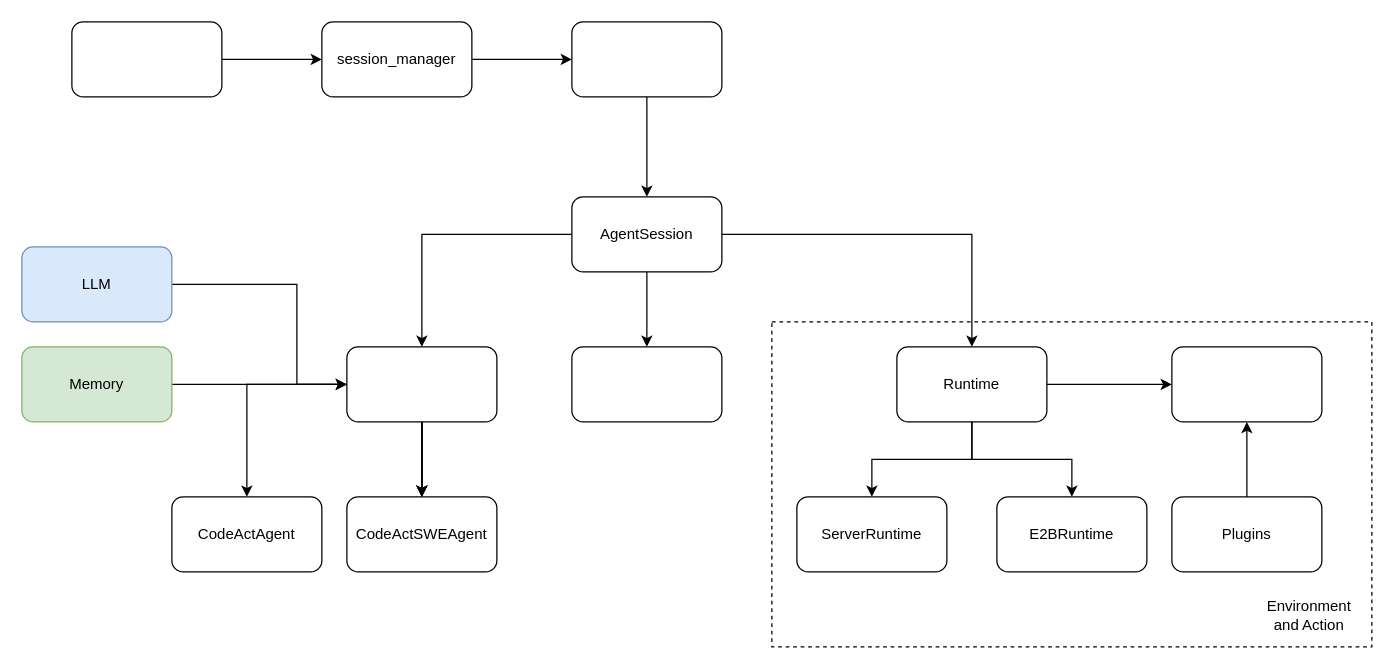
Some shapes in this 1394 by 669 pixel diagram are drawn without their labels. Each missing label, with the centre of its shape:
AgentController: point 421,384
EventStream 用来接偶组件之间的依赖: point 646,384
SandBox: point 1246,384
Server: point 146,59
session (websocket): point 646,59
